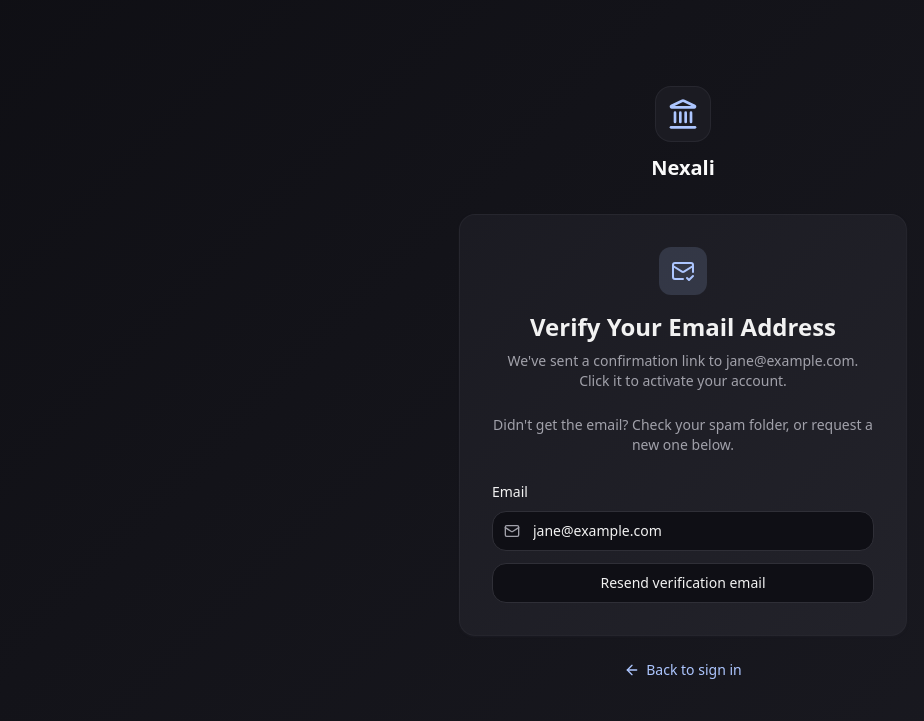
Test: VerifyEmail › resends the verification email and shows success feedback
Click the button "Resend verification email". click: (683, 582)
box: [492, 562, 874, 602]
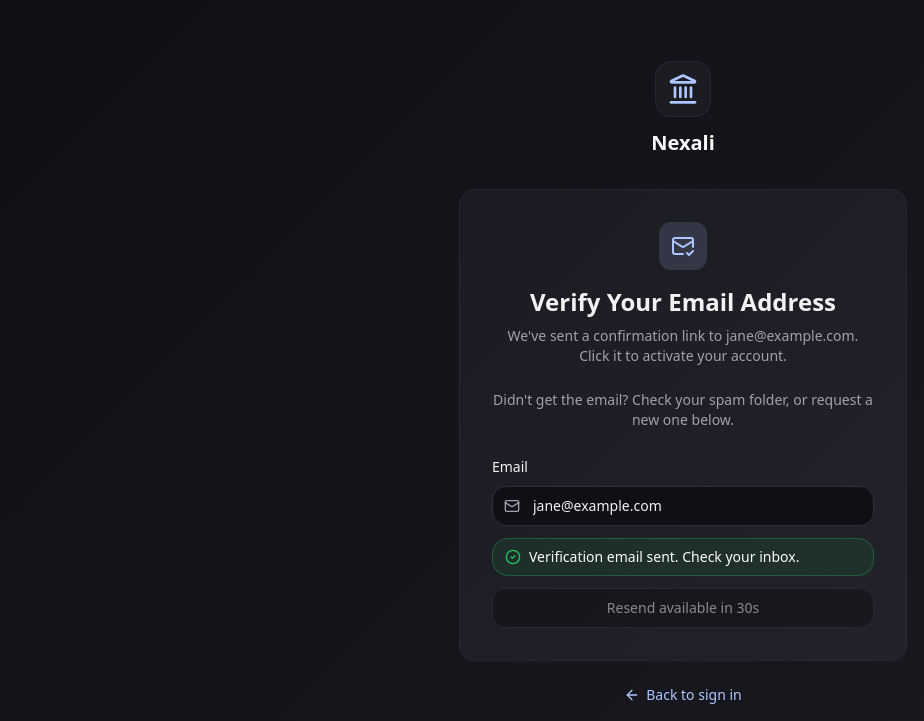
Expected: the text "Verification email sent. Check your inbox." is shown, [529, 546, 799, 566]
